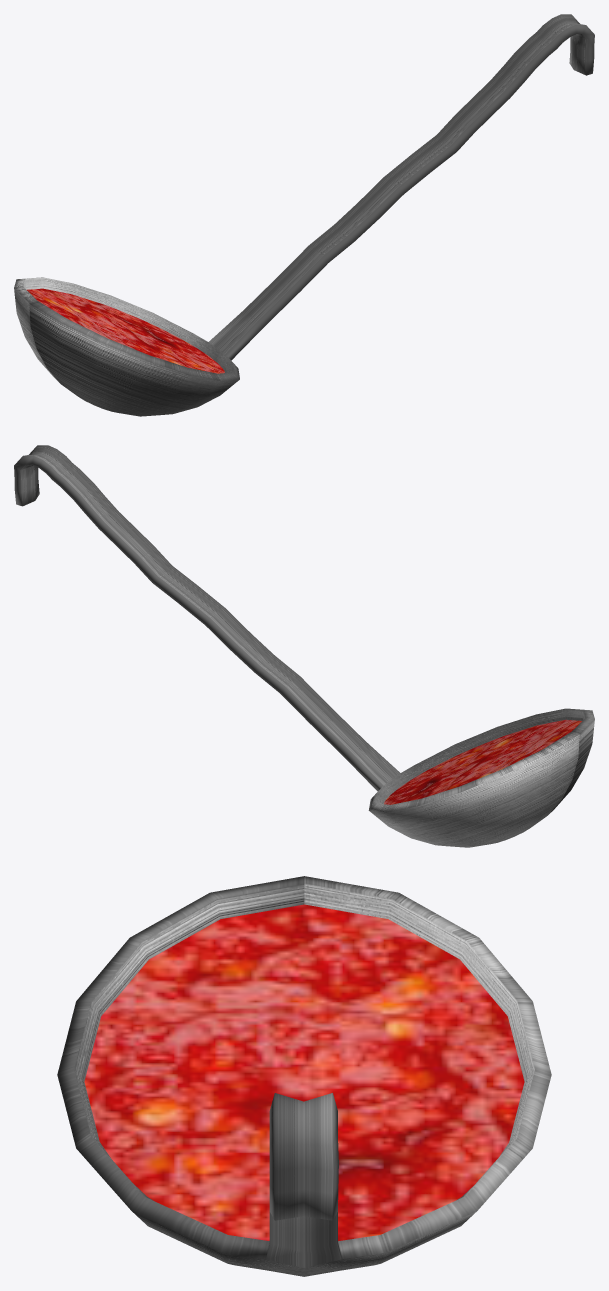
The model's file is soeplepel_saus.glb.
3 views of the same model, one above another, from view 1: azimuth 30°, elevation 25°; view 2: azimuth 150°, elevation 25°; view 3: azimuth 270°, elevation 25° (orthographic). The views are drawn at different scales.
Visible parts, largest first — view 1: Sphere, Sphere.001; view 2: Sphere, Sphere.001; view 3: Sphere.001, Sphere.
Part boxes in pixels (x1,y1,x2,y2): Sphere: (14,14,594,416); Sphere.001: (27,288,224,373); Sphere: (14,445,594,847); Sphere.001: (384,719,581,804); Sphere.001: (84,904,524,1240); Sphere: (57,876,551,1276).
Size of the model in its own units: 4.82 by 2.33 by 1.85.
2 materials, 2 textured.
